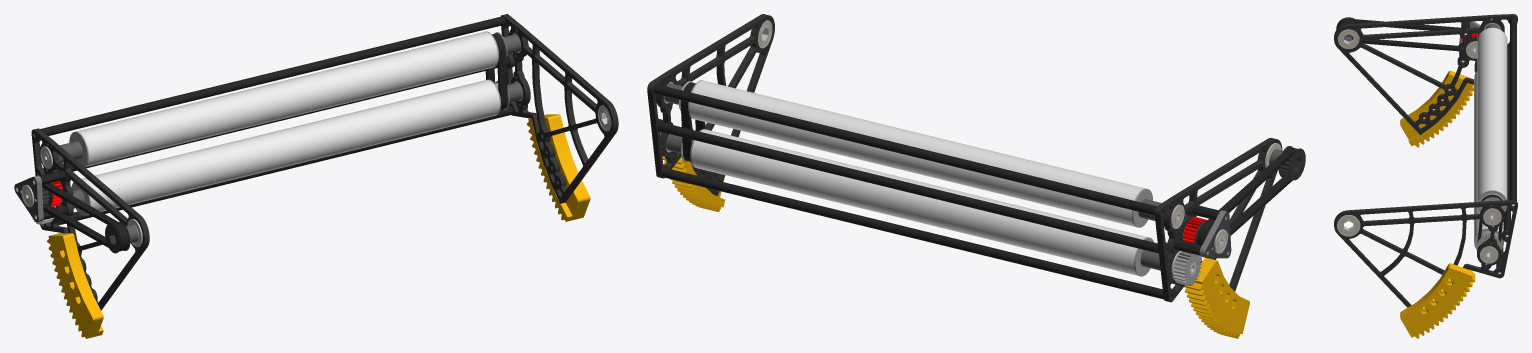
3 views of the same model, side by side, from view 1: azimuth 30°, elevation 25°; view 2: azimuth 150°, elevation 25°; view 3: azimuth 270°, elevation 25° (orthographic). The views are drawn at different scales.
Visible parts, largest first — view 1: Part 1 (×2), 3354-2026-CS2-4000-Hood-AL7075 - 1/4-1 (×2), 3/8" Round Shaft (22.688") (×3), Spur 2.54M 142T (×2), 85 Tooth x 9mm HTD5 Belt, 40 Tooth x 9mm HTD5 Belt, Part 8; view 2: Part 1 (×2), 3/8" Round Shaft (22.688") (×3), 3354-2026-CS2-4000-Hood-AL7075 - 1/4-1 (×2), Spur 2.54M 142T (×2), 85 Tooth x 9mm HTD5 Belt, Part 8, Spur 1.2700000000000002M 26T, 40 Tooth x 9mm HTD5 Belt, 18t Custom HTD 5mm Pulley (0.375" Wide, *0.507" Hex Bore); view 3: 3354-2026-CS2-4000-Hood-AL7075 - 1/4-1 (×2), Part 1 (×2), Spur 2.54M 142T (×2), 3/8" Round Shaft (22.688") (×2), 85 Tooth x 9mm HTD5 Belt, 1/2" Hex Bore Bearing (1.125" OD, 0.313" WD, Shielded, Flang (×2), 0.375" ID Bearing (0.875" OD, 0.281" WD, Shielded, Flanged) (×3), Part 3 (×2), 40 Tooth x 9mm HTD5 Belt.
Part boxes in pixels (<box>): Part 1 (×2): <box>76,31,499,215</box>; 3354-2026-CS2-4000-Hood-AL7075 - 1/4-1 (×2): <box>31,14,618,310</box>; 3/8" Round Shaft (22.688") (×3): <box>40,16,513,224</box>; Spur 2.54M 142T (×2): <box>47,114,590,338</box>; 85 Tooth x 9mm HTD5 Belt: <box>42,183,128,251</box>; 40 Tooth x 9mm HTD5 Belt: <box>485,33,507,109</box>; Part 8: <box>14,175,43,222</box>; Part 1 (×2): <box>689,80,1147,275</box>; 3/8" Round Shaft (22.688") (×3): <box>653,84,1163,299</box>; 3354-2026-CS2-4000-Hood-AL7075 - 1/4-1 (×2): <box>647,14,1282,302</box>; Spur 2.54M 142T (×2): <box>662,156,1249,338</box>; 85 Tooth x 9mm HTD5 Belt: <box>1196,147,1297,245</box>; Part 8: <box>1199,210,1231,258</box>; Spur 1.2700000000000002M 26T: <box>1173,251,1201,285</box>; 40 Tooth x 9mm HTD5 Belt: <box>680,82,705,161</box>; 18t Custom HTD 5mm Pulley (0.375" Wide, *0.507" Hex Bore): <box>1278,146,1305,180</box>; 3354-2026-CS2-4000-Hood-AL7075 - 1/4-1 (×2): <box>1334,14,1517,307</box>; Part 1 (×2): <box>1474,28,1507,241</box>; Spur 2.54M 142T (×2): <box>1400,70,1475,338</box>; 3/8" Round Shaft (22.688") (×2): <box>1503,17,1516,236</box>; 85 Tooth x 9mm HTD5 Belt: <box>1337,18,1461,51</box>; 1/2" Hex Bore Bearing (1.125" OD, 0.313" WD, Shielded, Flang (×2): <box>1337,29,1360,236</box>; 0.375" ID Bearing (0.875" OD, 0.281" WD, Shielded, Flanged) (×3): <box>1466,41,1501,263</box>; Part 3 (×2): <box>1474,190,1507,249</box>; 40 Tooth x 9mm HTD5 Belt: <box>1477,194,1502,242</box>.
Bounding box in the file's own units: 0.6429 × 0.1923 × 0.2433.
